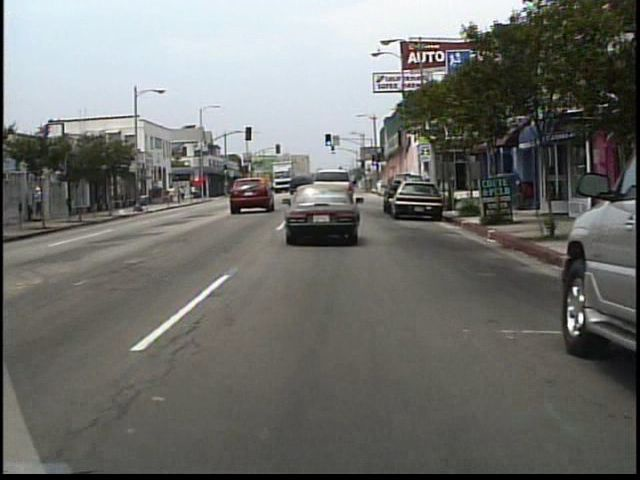person: (35, 183, 46, 220), (169, 185, 176, 205), (178, 185, 183, 204)
